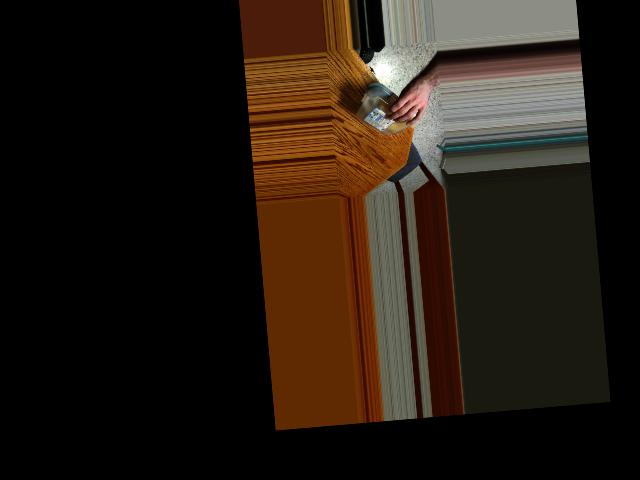cheese: (354, 80, 422, 137)
